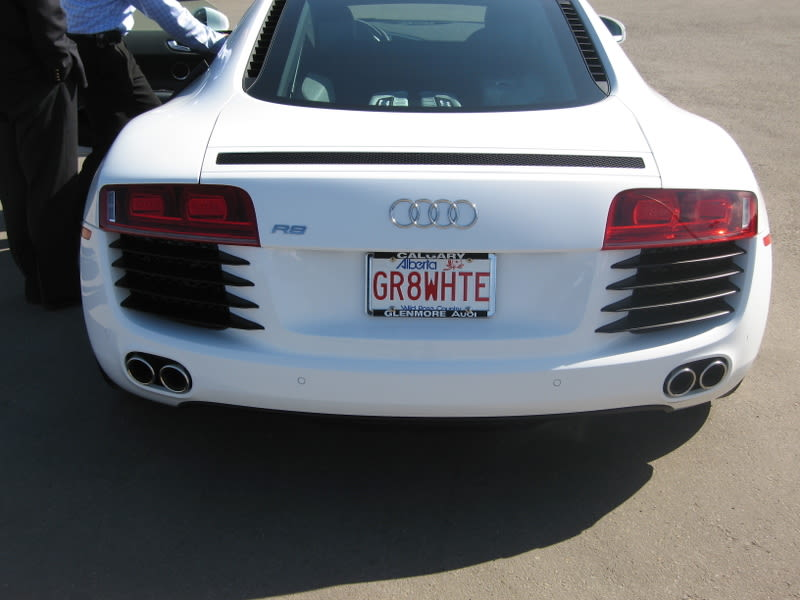license plate: (361, 249, 499, 321)
